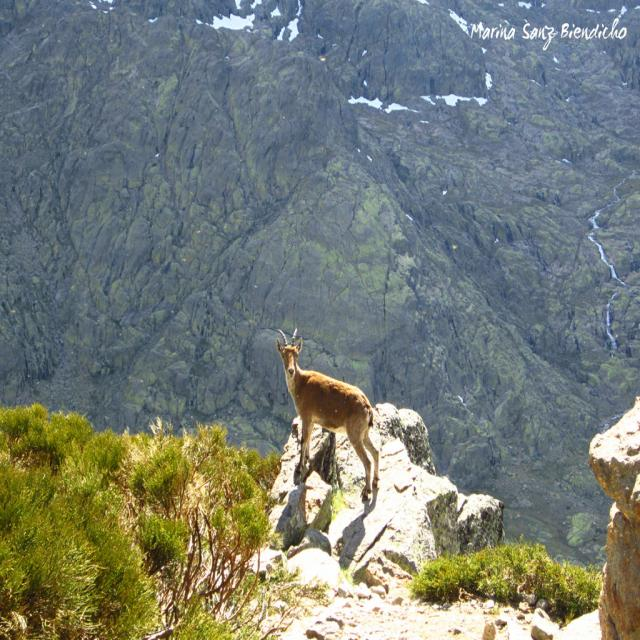Deer: (276, 328, 378, 500)
